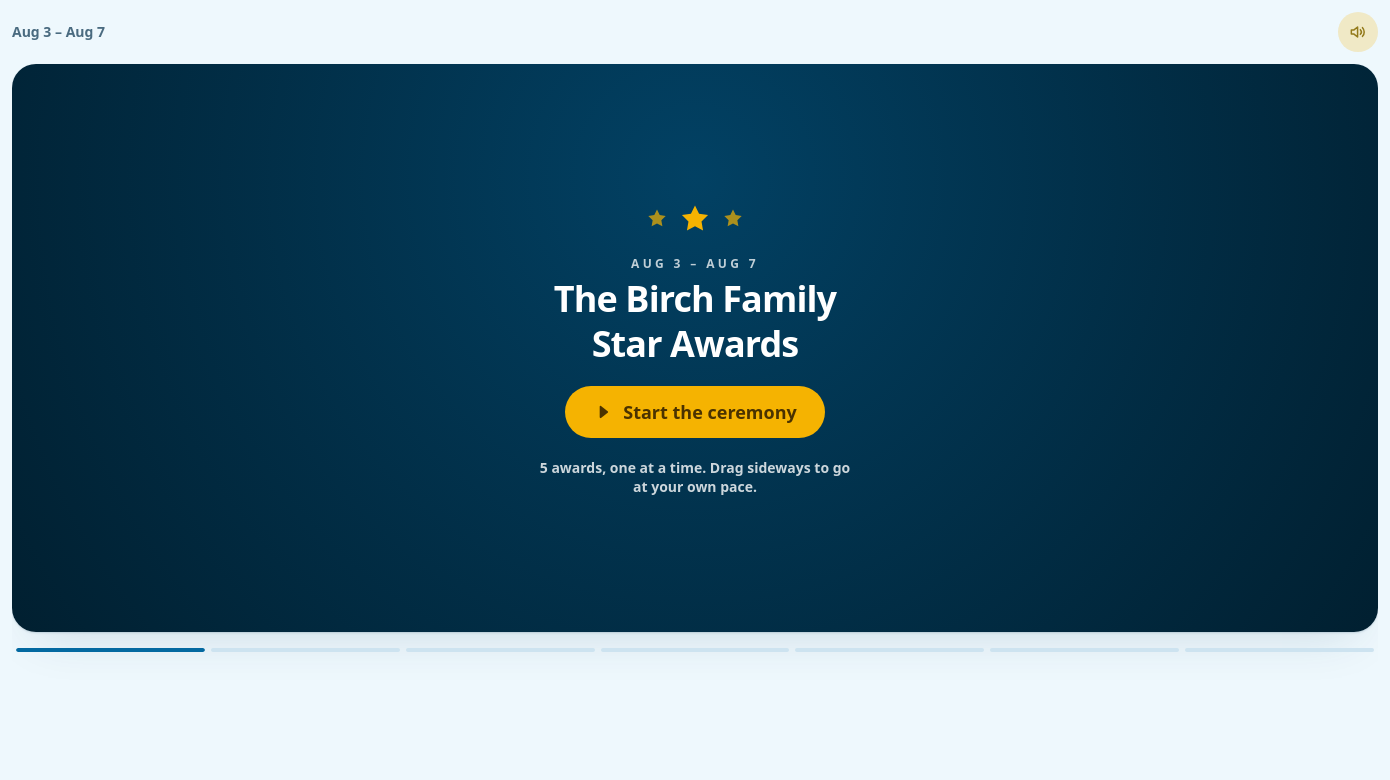
Test: holding it while the room claps › lets go when somebody moves on by hand
This screenshot has width=1390, height=780.
Click the button "Start the ceremony".
click(695, 412)  # box [565,386,825,438]
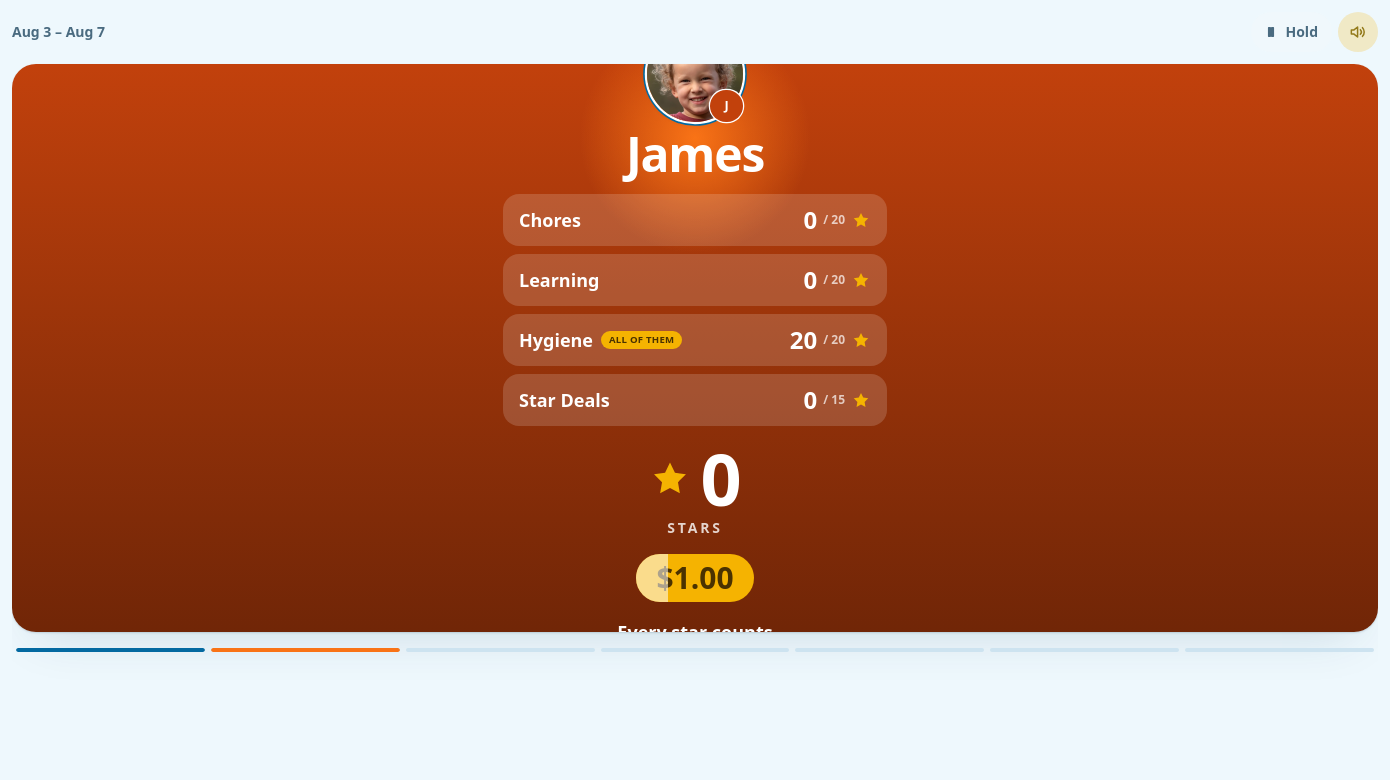
Click the button "Hold".
click(1292, 32)  # box [1252,12,1332,52]
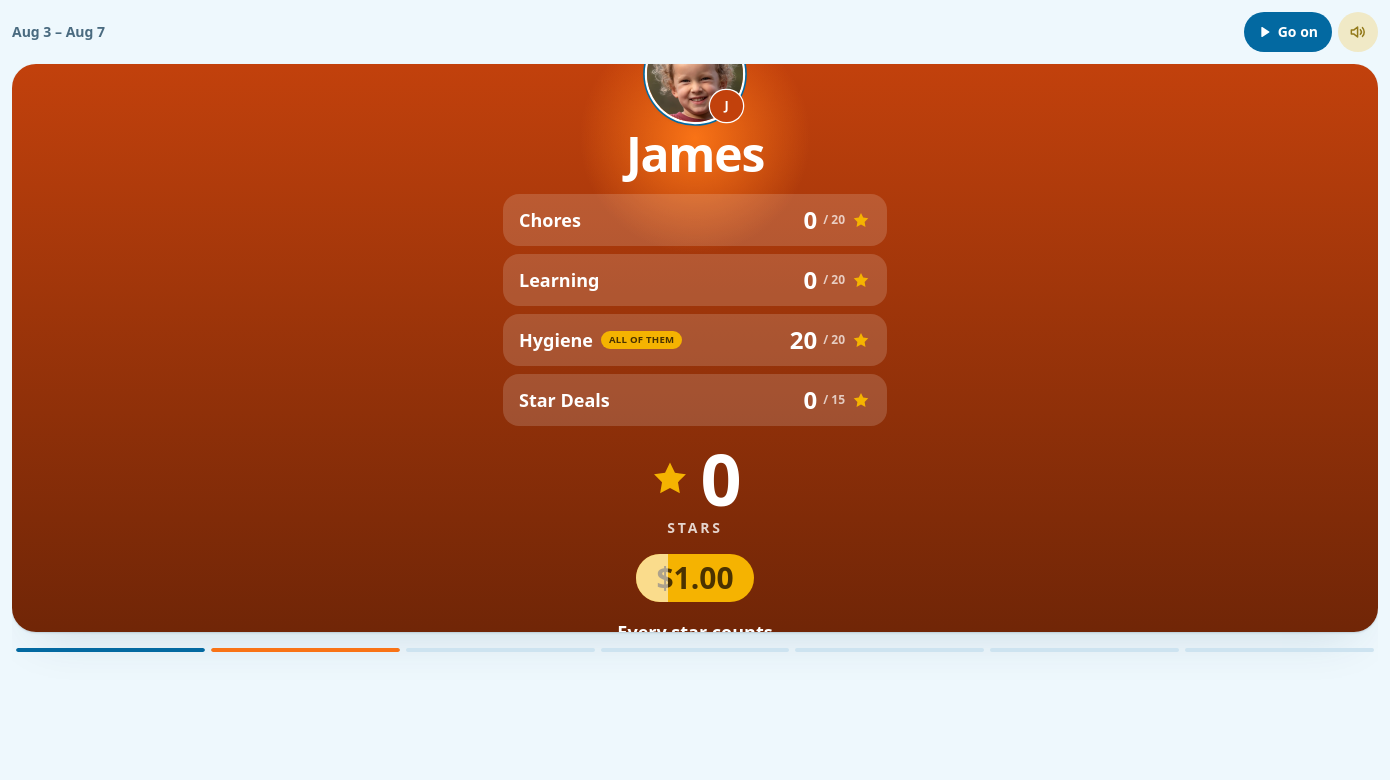
Press the mouse on the element named "Slide 2 of 7" at (695, 348), box [12,64,1378,632]
Wait 8680 ms
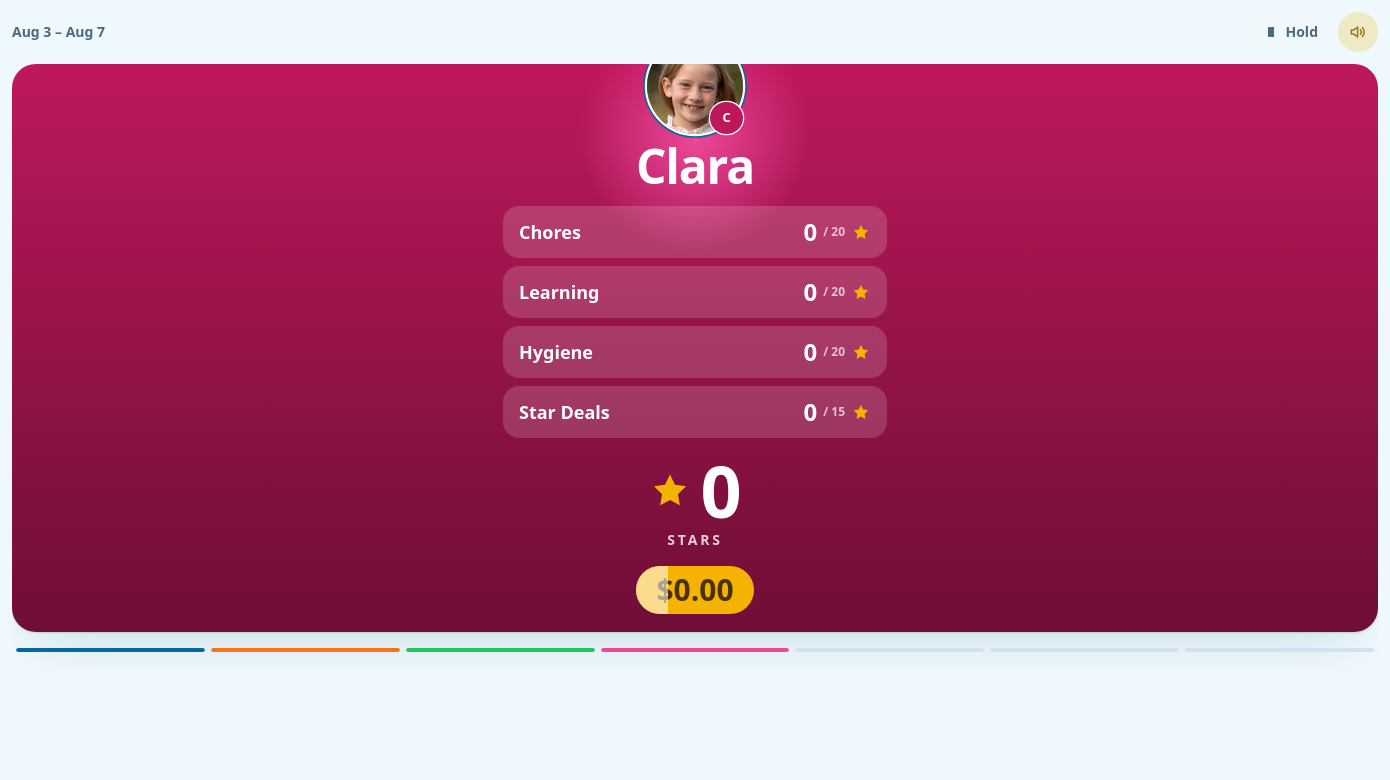
expect the button "Go on" is gone: met
